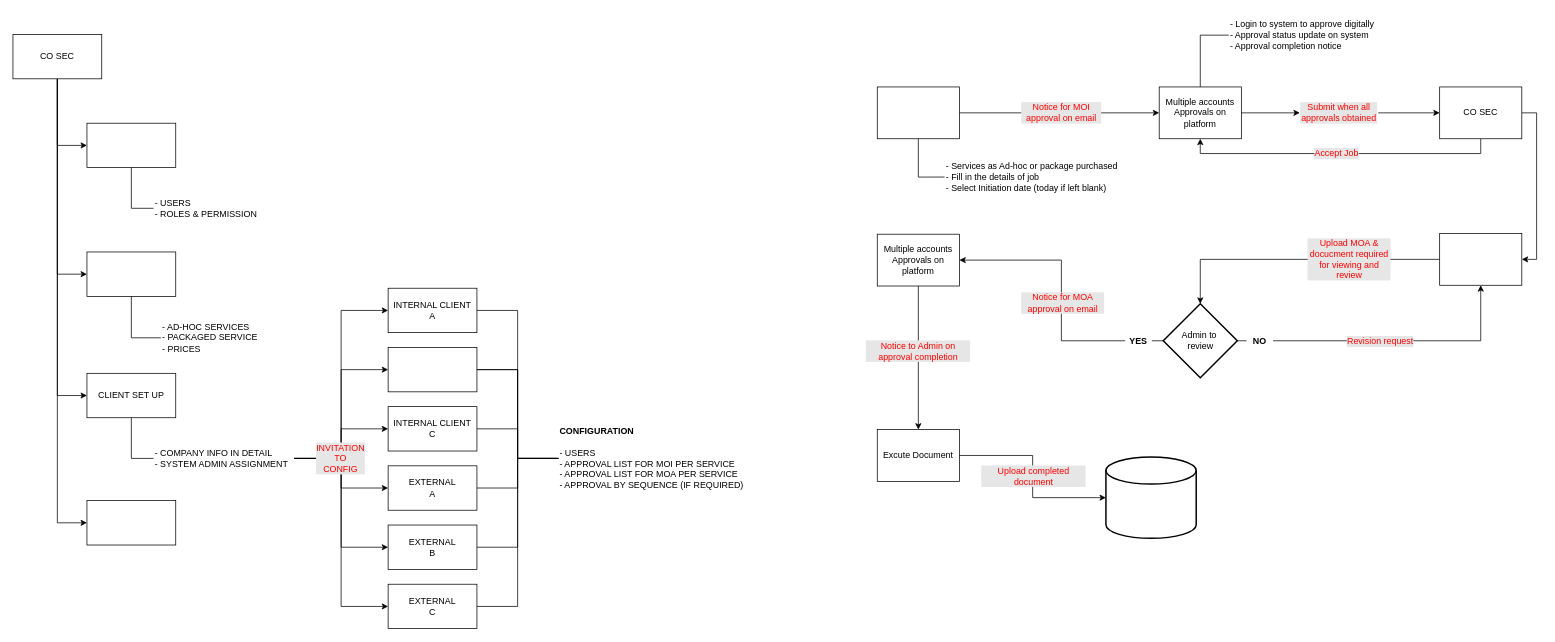
The diagram is 1555 pixels wide and 642 high, and some of its shapes have lost their labels. Here are the shapes that lost their labels. From the top down, the centre of each, then its label:
point 918,112: Client's admin issues MOI
point 131,145: ADMIN CONFIG
point 131,273: PRODUCT & SERVICES
point 1480,259: Process the job accordingly
point 432,369: INTERNAL CLIENT B
point 1151,497: LGB SERVICE CLOUD
point 131,522: CURRENT SERVICES
